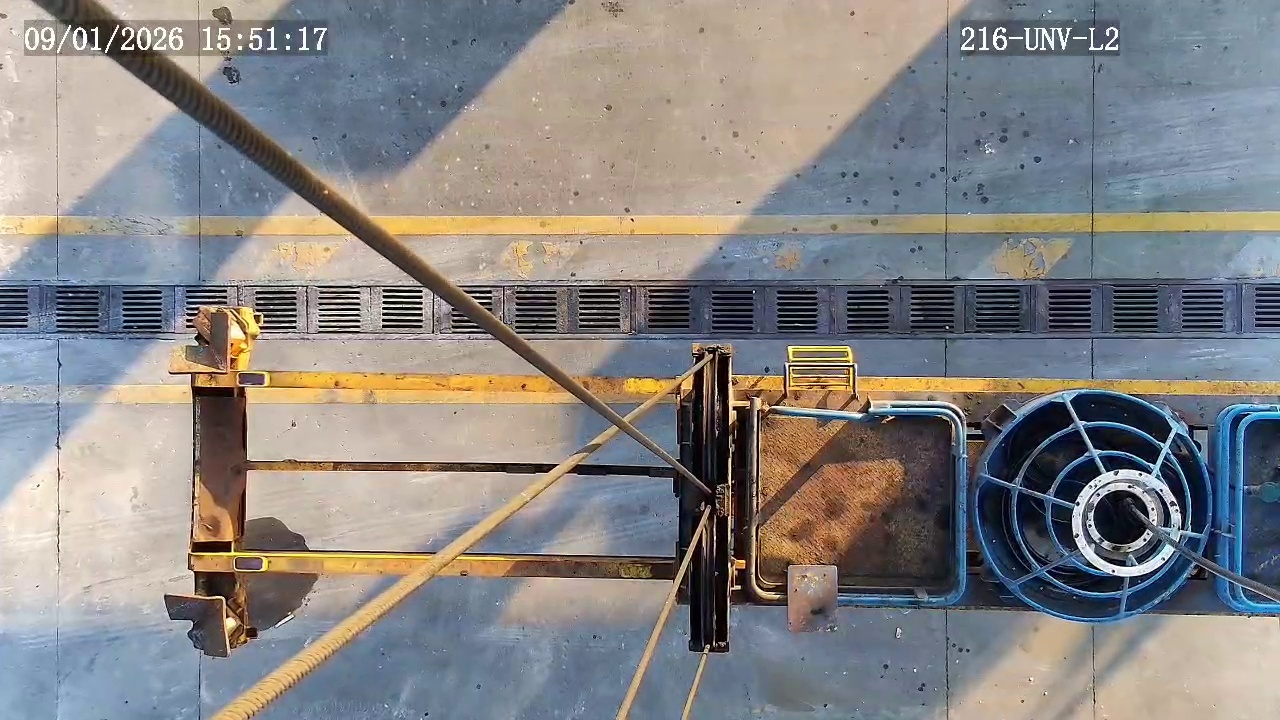left: (974, 391, 1215, 623)
